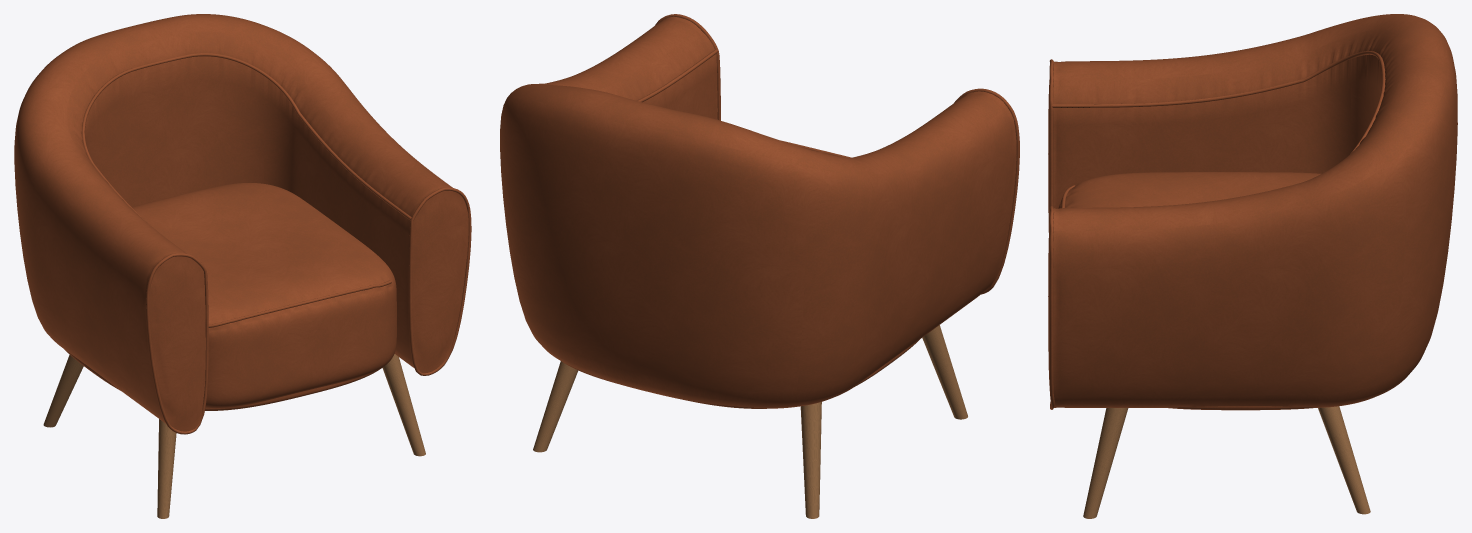
The picture shows the model from 3 angles, left to right: view 1: azimuth 30°, elevation 25°; view 2: azimuth 150°, elevation 25°; view 3: azimuth 270°, elevation 25°; orthographic projection. The views are drawn at different scales.
Visible parts, largest first — view 1: Upholstery, Leg0R, Leg0L, Leg1L; view 2: Upholstery, Leg1L, Leg0L, Leg1R; view 3: Upholstery, Leg0R, Leg1R.
Boxes of the visible parts, left/top/right/bottom form: Upholstery: left=14, top=14, right=471, bottom=434; Leg0R: left=382, top=354, right=425, bottom=456; Leg0L: left=157, top=419, right=176, bottom=518; Leg1L: left=43, top=354, right=83, bottom=427; Upholstery: left=500, top=14, right=1019, bottom=408; Leg1L: left=800, top=402, right=821, bottom=518; Leg0L: left=922, top=325, right=967, bottom=419; Leg1R: left=533, top=361, right=578, bottom=452; Upholstery: left=1048, top=14, right=1457, bottom=410; Leg0R: left=1083, top=408, right=1128, bottom=518; Leg1R: left=1318, top=406, right=1370, bottom=514.
Size of the model in its own units: 0.76 by 0.78 by 0.74.
2 materials, 2 textured.
